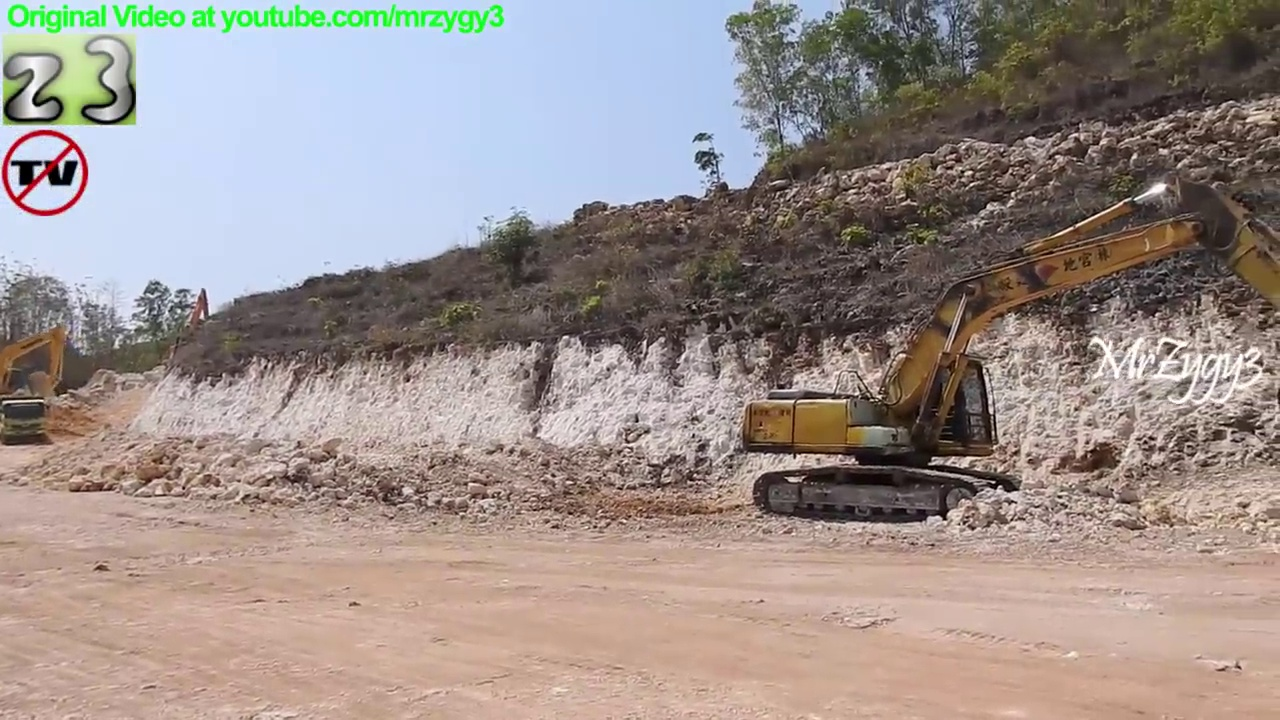excavator: (738, 172, 1280, 531), (1, 321, 67, 409), (158, 286, 217, 374)
truck: (1, 395, 57, 447)
